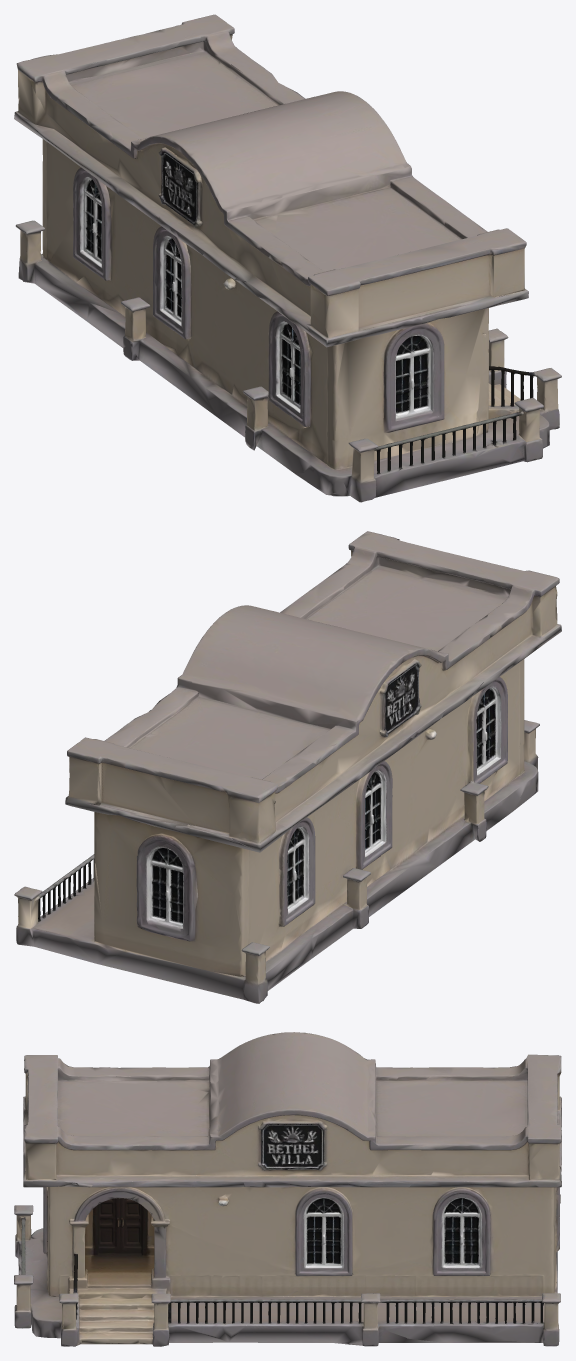
File: BethelVilla.glb
3 renders of one model, top to bottom at view 1: azimuth 30°, elevation 25°; view 2: azimuth 150°, elevation 25°; view 3: azimuth 270°, elevation 25°, orthographic. The views are drawn at different scales.
Visible parts, largest first — view 1: tripo_node_adc14133-9a38-461d-a0d2-6aa2c9f696cb; view 2: tripo_node_adc14133-9a38-461d-a0d2-6aa2c9f696cb; view 3: tripo_node_adc14133-9a38-461d-a0d2-6aa2c9f696cb.
Part boxes in pixels (x1=…): tripo_node_adc14133-9a38-461d-a0d2-6aa2c9f696cb: x1=14, y1=14, x2=561, y2=502; tripo_node_adc14133-9a38-461d-a0d2-6aa2c9f696cb: x1=14, y1=531, x2=561, y2=1003; tripo_node_adc14133-9a38-461d-a0d2-6aa2c9f696cb: x1=14, y1=1032, x2=561, y2=1346.
Size of the model in its own units: 0.4559 by 0.4169 by 0.9785.
Materials: 1 (1 with a texture image).
